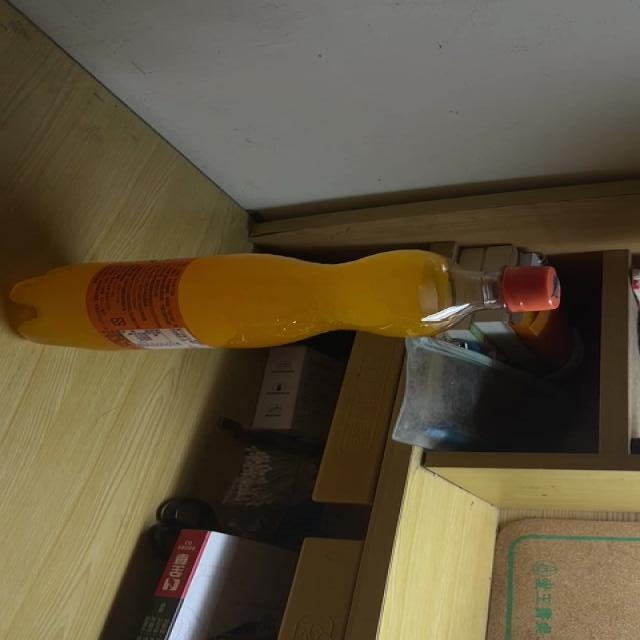Fanta: (8, 248, 558, 353)
